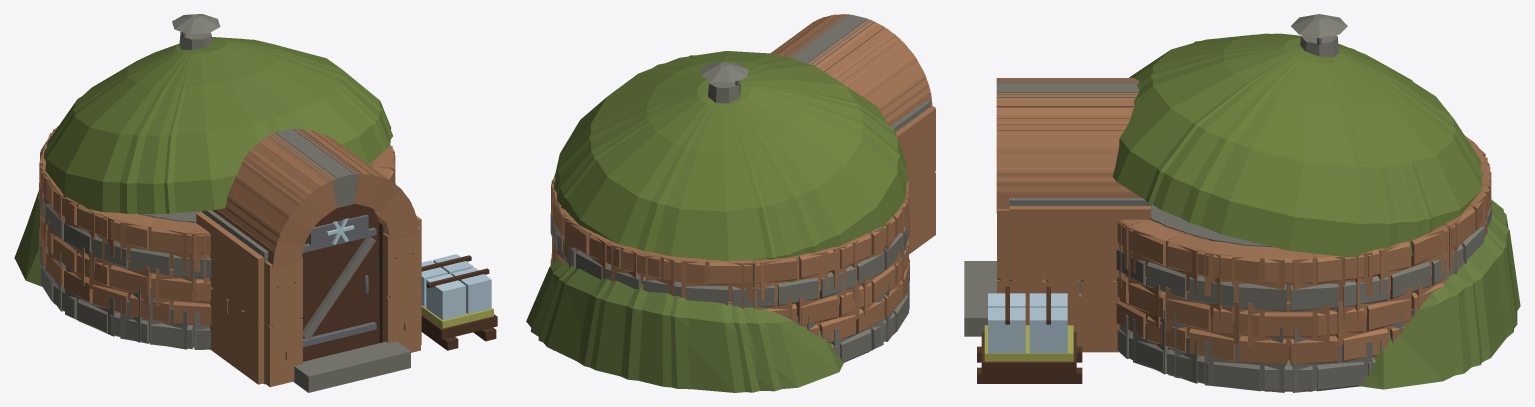
Rendered from building_ice_house_a.glb.
3 views of the same model, side by side, from view 1: azimuth 30°, elevation 25°; view 2: azimuth 150°, elevation 25°; view 3: azimuth 270°, elevation 25° (orthographic). The views are drawn at different scales.
Parts seen in each view (by area): view 1: building_ice_house_a_LOD0_vault, building_ice_house_a_LOD1_vault, building_ice_house_a_LOD2_vault; view 2: building_ice_house_a_LOD0_vault, building_ice_house_a_LOD1_vault, building_ice_house_a_LOD2_vault; view 3: building_ice_house_a_LOD0_vault, building_ice_house_a_LOD1_vault, building_ice_house_a_LOD2_vault.
Part boxes in pixels (left/top/right/bottom): building_ice_house_a_LOD0_vault: left=14, top=14, right=496, bottom=392; building_ice_house_a_LOD1_vault: left=28, top=14, right=495, bottom=392; building_ice_house_a_LOD2_vault: left=42, top=14, right=497, bottom=392; building_ice_house_a_LOD0_vault: left=526, top=14, right=934, bottom=392; building_ice_house_a_LOD1_vault: left=530, top=14, right=935, bottom=391; building_ice_house_a_LOD2_vault: left=538, top=14, right=935, bottom=392; building_ice_house_a_LOD0_vault: left=964, top=16, right=1517, bottom=391; building_ice_house_a_LOD1_vault: left=977, top=14, right=1513, bottom=392; building_ice_house_a_LOD2_vault: left=964, top=14, right=1520, bottom=392.
Size of the model in its own units: 3.98 by 3.11 by 5.44.
